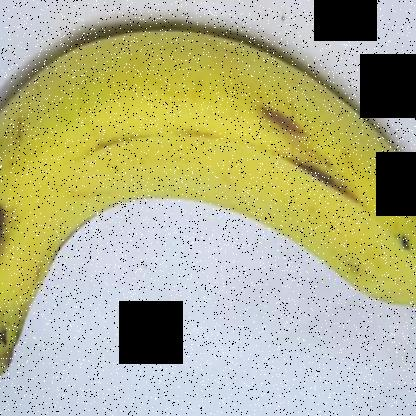freshripe: (1, 20, 415, 397)
